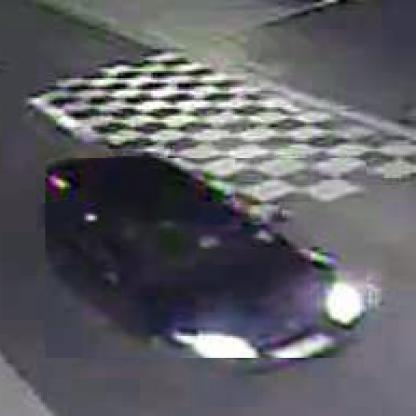car: (44, 159, 368, 361)
